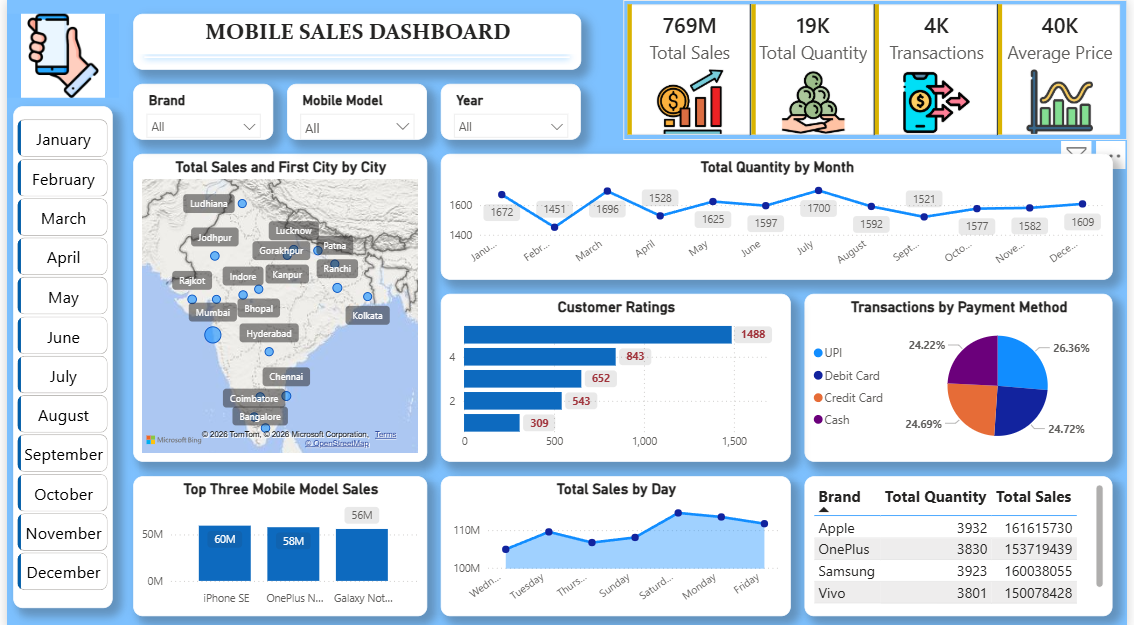

This screenshot's page, from the dashboard's own definition file:
{"tool":"powerbi","page":{"name":"Page 1","canvas":[1280,720],"ordinal":0},"visuals":[{"type":"shape","box":[6.7,121.7,113.3,573.3],"z":0},{"type":"advancedSlicerVisual","fields":{"Values":["Sales Data.Date.Variation.Date Hierarchy.Month"]},"box":[6.7,131.7,113.3,553.3],"z":1000},{"type":"cardVisual","fields":{"Data":["Sales Data.Total Sales","Sales Data.Total Quantity","Sales Data.Transactions","Sales Data.Average Price"]},"box":[688,16,576,144],"z":2000},{"type":"map","fields":{"Category":["Sales Data.City"],"Size":["Sales Data.Total Sales"]},"box":[144,176,336,352],"z":3000},{"type":"lineChart","fields":{"Category":["Sales Data.Date.Variation.Date Hierarchy.Month","Sales Data.Date.Variation.Date Hierarchy.Day"],"Y":["Sales Data.Total Quantity"]},"box":[496,176,768,144],"z":4000},{"type":"clusteredColumnChart","title":"Top Three Mobile Model Sales ","fields":{"Y":["Sales Data.Total Sales"],"Category":["Sales Data.Mobile Model"]},"box":[144,544,336,160],"z":5000},{"type":"pieChart","fields":{"Category":["Sales Data.Payment Method"],"Y":["Sales Data.Transactions"]},"box":[912,336,352,192],"z":6000},{"type":"clusteredBarChart","title":"Customer Ratings","fields":{"Category":["Sales Data.Customer Ratings"],"Y":["CountNonNull(Sales Data.Customer Ratings)"]},"box":[496,336,400,192],"z":7000},{"type":"areaChart","title":"Total Sales by Day","fields":{"Category":["Sales Data.Day Name"],"Y":["Sales Data.Total Sales"]},"box":[496,544,400,160],"z":8000},{"type":"tableEx","fields":{"Values":["Sales Data.Brand","Sales Data.Total Quantity","Sales Data.Total Sales"]},"box":[912,544,352,160],"z":9000},{"type":"slicer","fields":{"Values":["Sales Data.Brand"]},"box":[144,96,160,64],"z":10000},{"type":"slicer","fields":{"Values":["Sales Data.Mobile Model"]},"box":[320,96,160,64],"z":11000},{"type":"slicer","fields":{"Values":["Sales Data.Date.Variation.Date Hierarchy.Year"]},"box":[496,96,160,64],"z":12000},{"type":"shape","title":"MOBILE SALES DASHBOARD","box":[144,16,512,64],"z":13000},{"type":"image","box":[0,16,128,96],"z":14000}]}

Visuals, with their boxes in screenshot pixels (x1, y1, x2, y2), scaled from the page's 1280x720 canvas onto the 1134x625 screenshot:
shape: 6, 106, 106, 603
advancedSlicerVisual - Sales Data.Date.Variation.Date Hierarchy.Month: 6, 114, 106, 595
cardVisual - Sales Data.Total Sales x Sales Data.Total Quantity: 610, 14, 1120, 139
map - Sales Data.City x Sales Data.Total Sales: 128, 153, 425, 458
lineChart - Sales Data.Date.Variation.Date Hierarchy.Month x Sales Data.Date.Variation.Date Hierarchy.Day: 439, 153, 1120, 278
"Top Three Mobile Model Sales " clusteredColumnChart: 128, 472, 425, 611
pieChart - Sales Data.Payment Method x Sales Data.Transactions: 808, 292, 1120, 458
"Customer Ratings" clusteredBarChart: 439, 292, 794, 458
"Total Sales by Day" areaChart: 439, 472, 794, 611
tableEx - Sales Data.Brand x Sales Data.Total Quantity: 808, 472, 1120, 611
slicer - Sales Data.Brand: 128, 83, 269, 139
slicer - Sales Data.Mobile Model: 284, 83, 425, 139
slicer - Sales Data.Date.Variation.Date Hierarchy.Year: 439, 83, 581, 139
"MOBILE SALES DASHBOARD" shape: 128, 14, 581, 69
image: 0, 14, 113, 97
